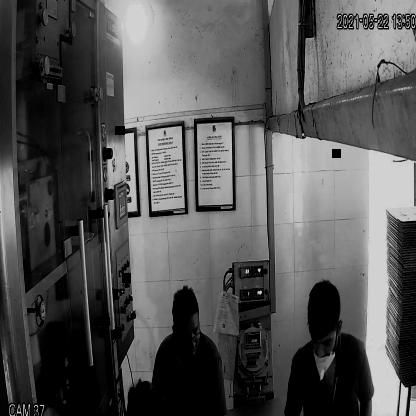goggles: (169, 323, 203, 345)
